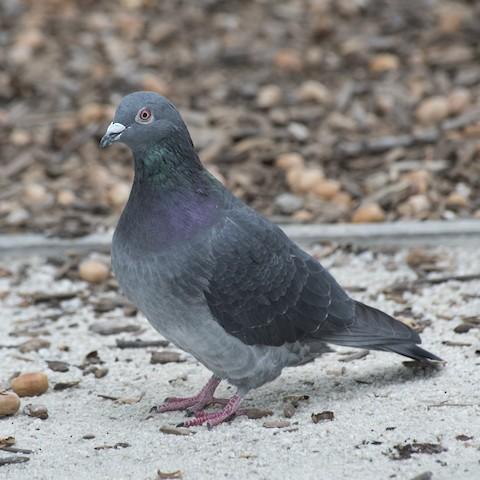pigeon: (94, 89, 452, 436)
